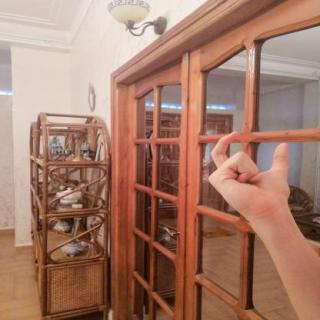NOON: (196, 126, 309, 223)
